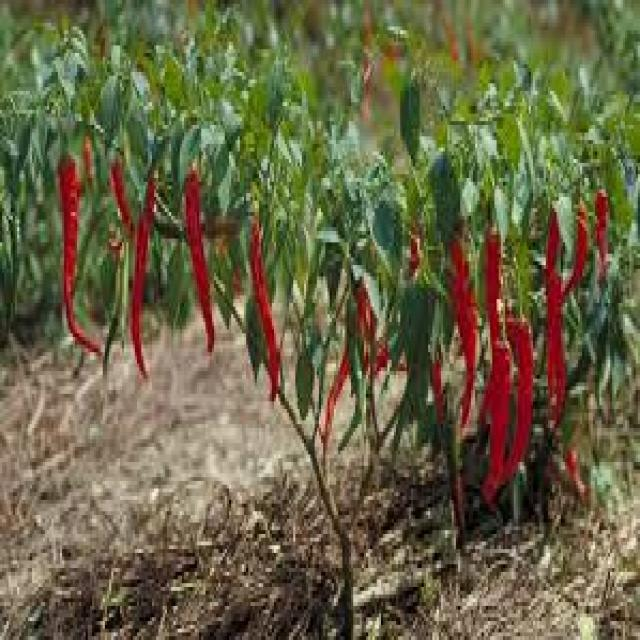sehat: (388, 77, 429, 163), (373, 195, 408, 270)
